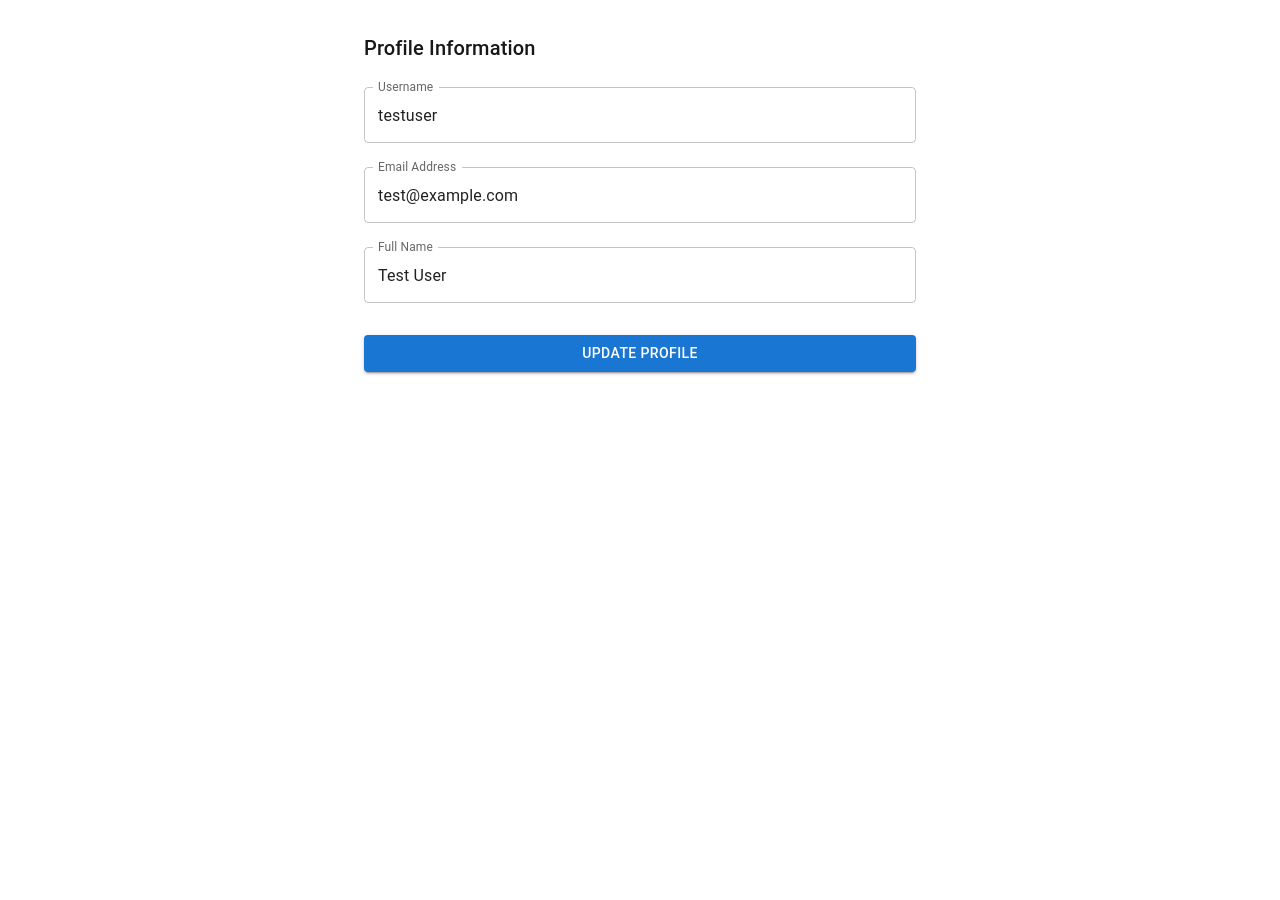
it: ProfilePage Integration › updates user profile data and displays success message
Replace the text in the field labelled "Email Address" with "new.email@example.com" at (640, 195), box x1=364 y1=167 x2=916 y2=223
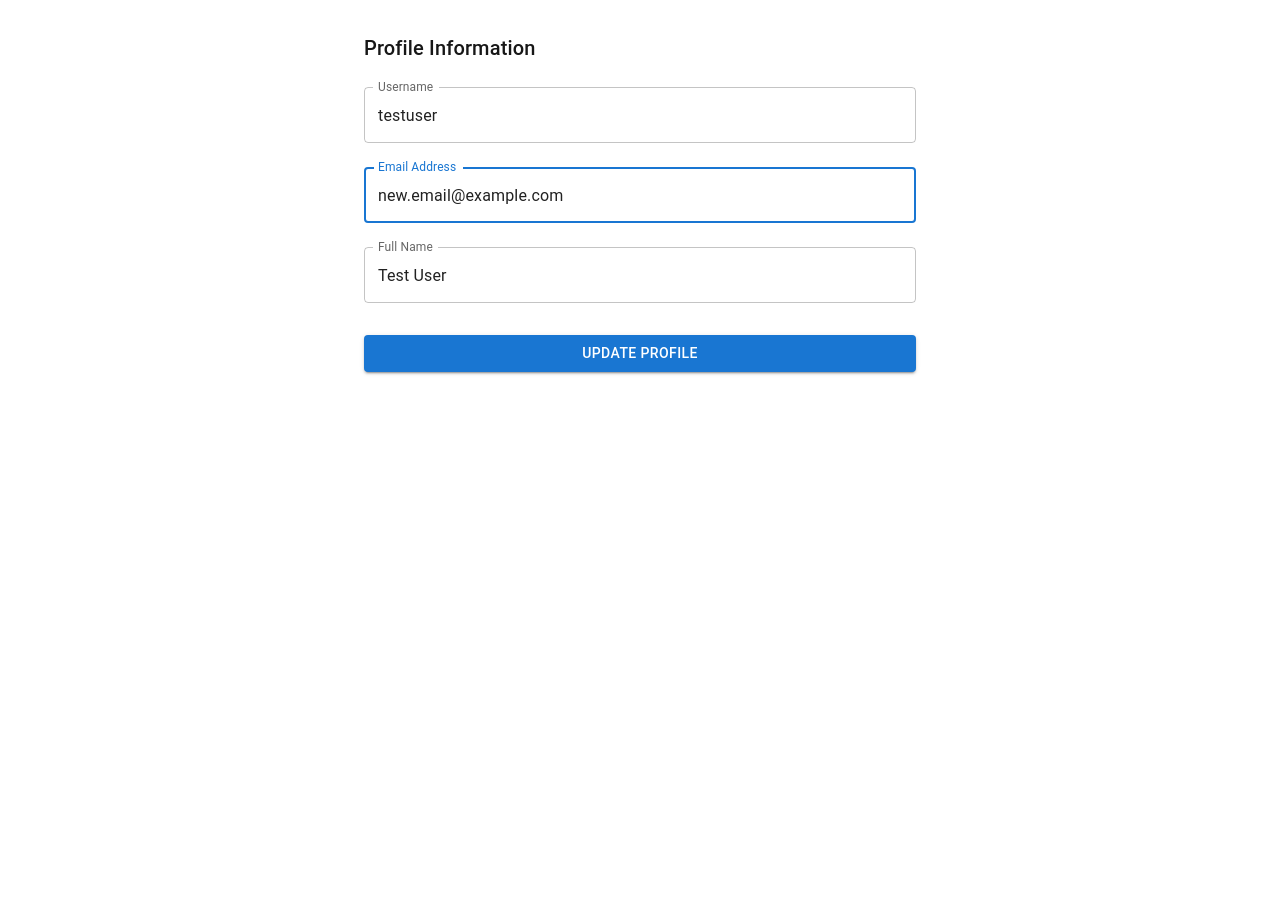
Replace the text in the field labelled "Full Name" with "New Name" at (640, 275), box x1=364 y1=247 x2=916 y2=303
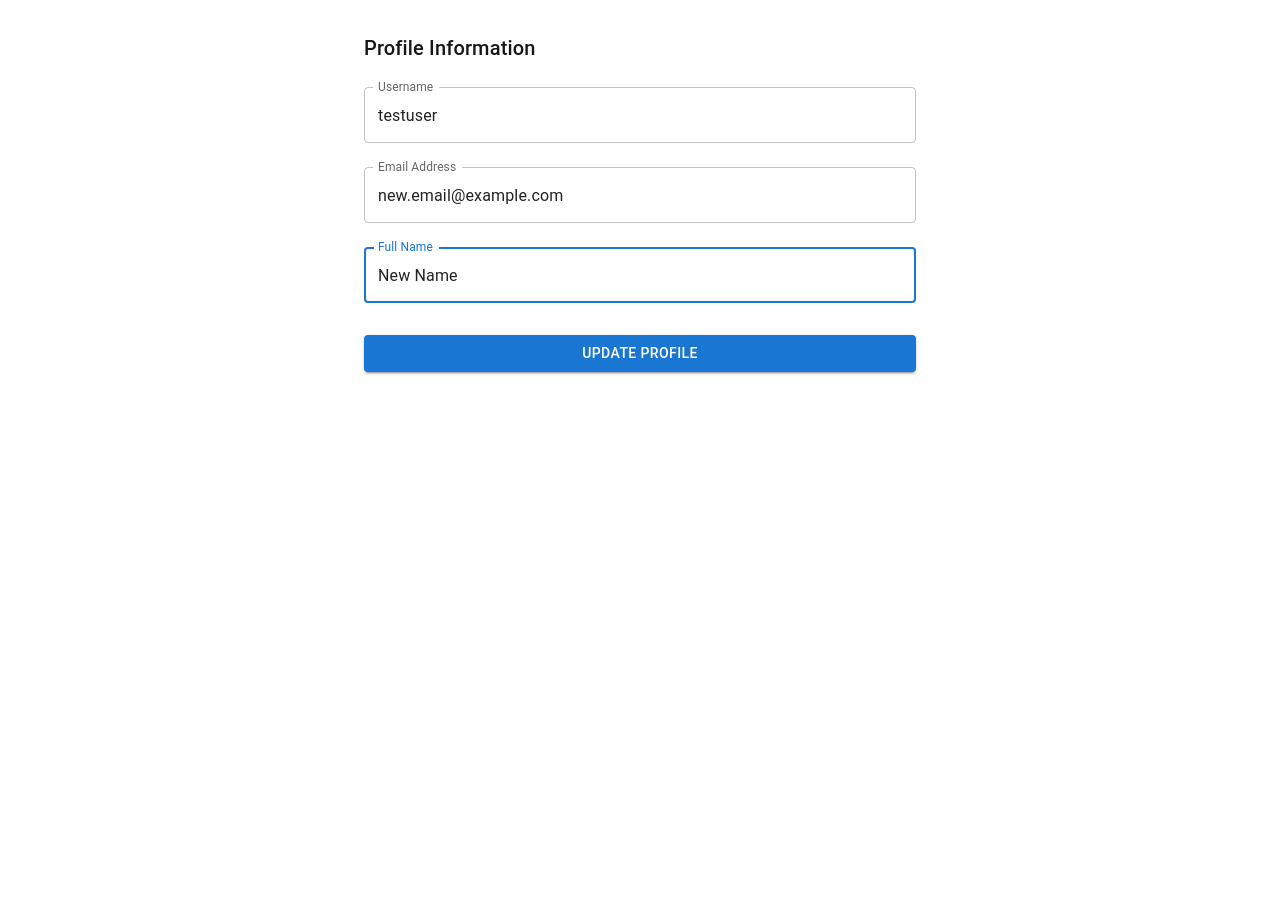
Click the button "Update Profile" at (640, 353), box x1=364 y1=335 x2=916 y2=372
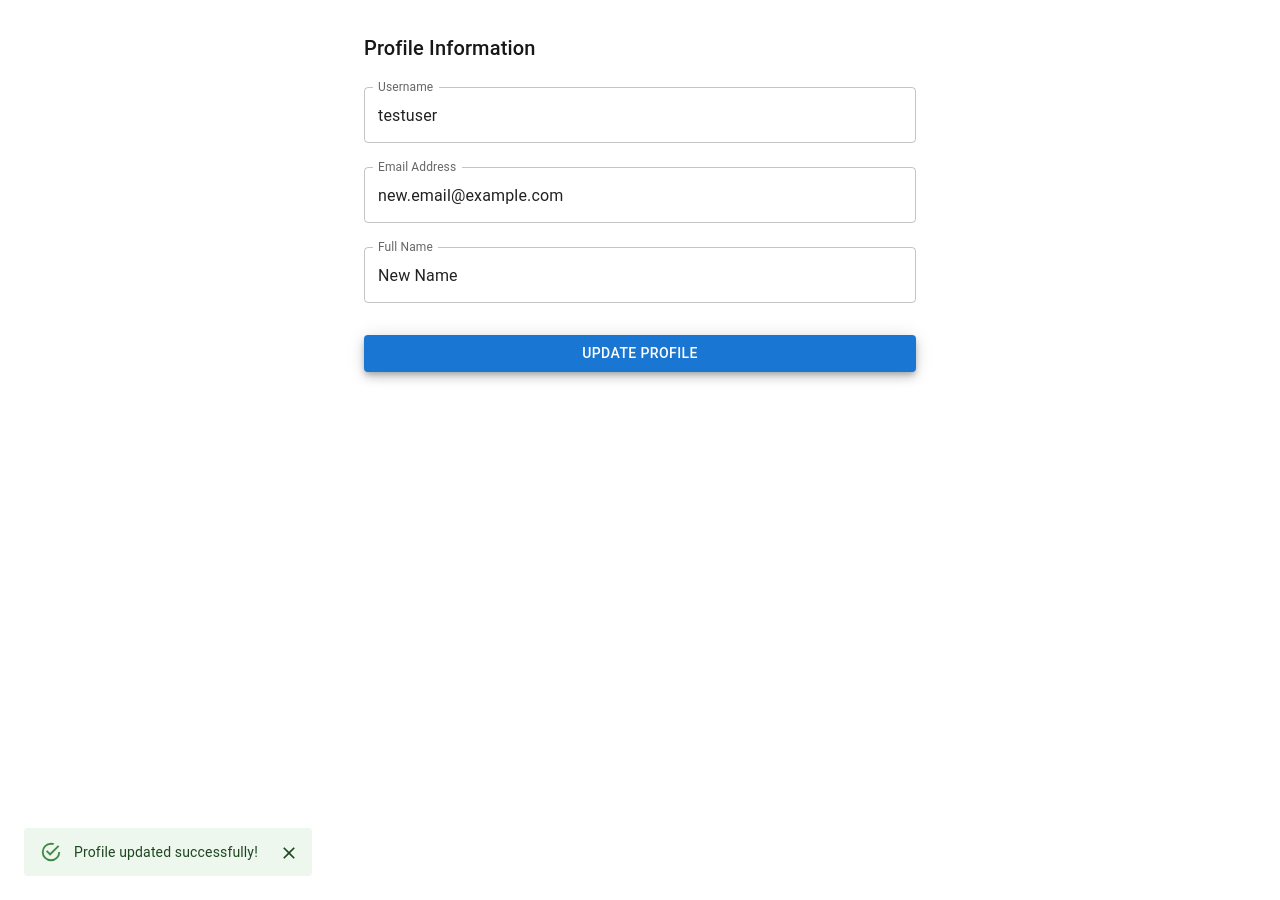
Check: the text "Profile updated successfully!" is shown, box x1=74 y1=844 x2=258 y2=860
